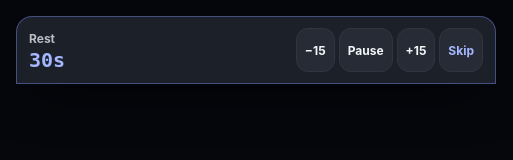
Test case: RestTimer › shows a paused indicator when paused
Expected: the text "Rest paused" is not shown
Click the button with aria-label "pause timer" at {"x": 366, "y": 50}, box 339,28 -> 392,72
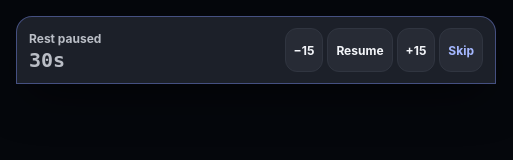
Expected: the text "Rest paused" is shown, 29,30 -> 101,48
// Resume — indicator gone
Click the button with aria-label "resume timer" at {"x": 360, "y": 50}, box 327,28 -> 393,72
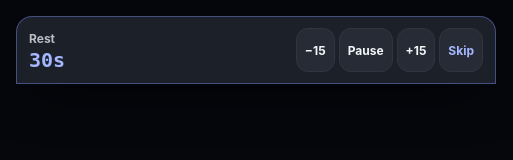
Expected: the text "Rest paused" is gone
